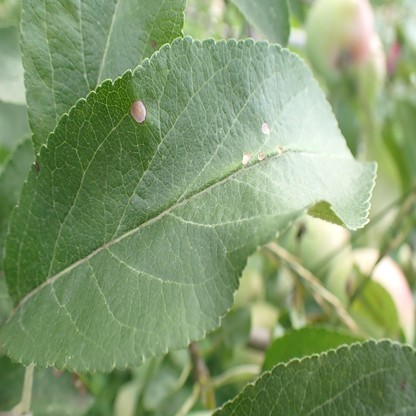frogeye: (130, 98, 146, 123), (261, 121, 270, 135), (241, 152, 250, 165), (258, 152, 265, 159)
